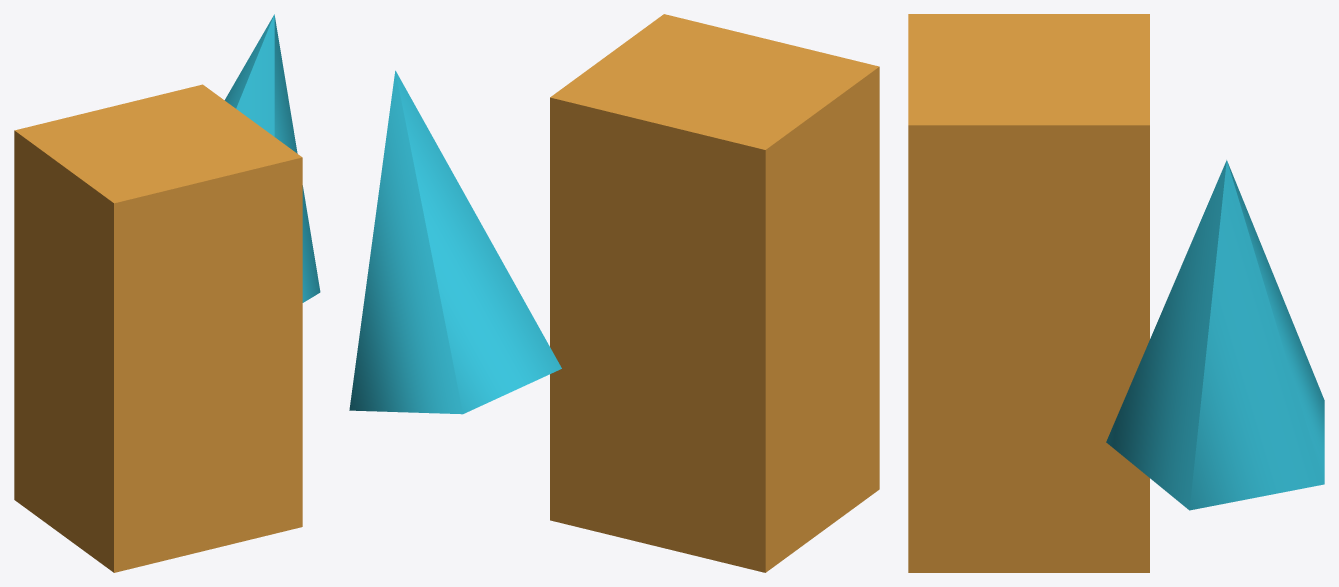
Rendered from frame-09.glb.
3 renders of one model, left to right at view 1: azimuth 30°, elevation 25°; view 2: azimuth 150°, elevation 25°; view 3: azimuth 270°, elevation 25°, orthographic. The views are drawn at different scales.
Bounding box in the file's own units: 0.4107 × 0.4768 × 0.379.
